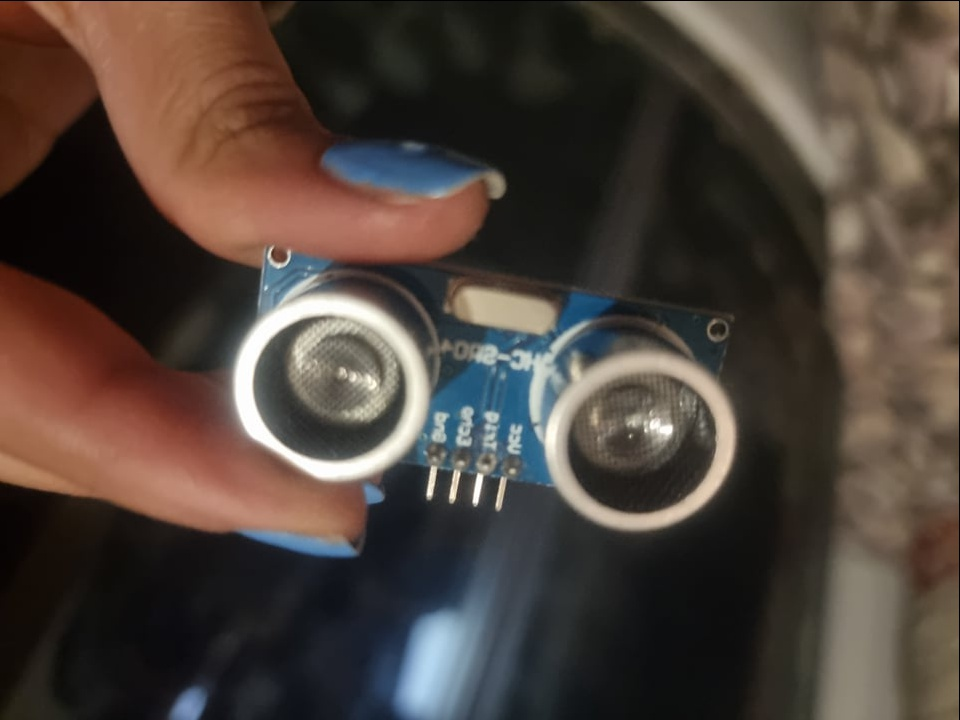SENSOR: (218, 244, 749, 533)
